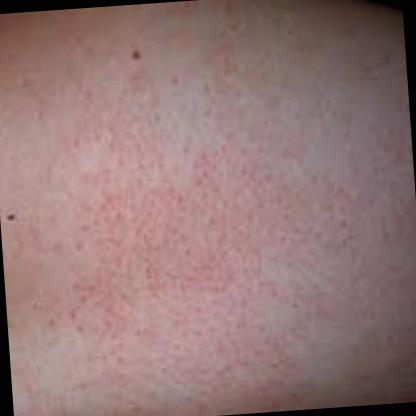Chicken Skin: (58, 99, 367, 406)
